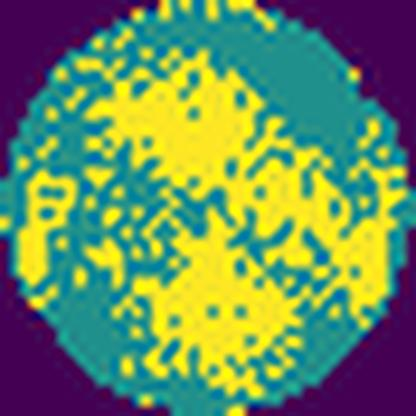Random: (10, 49, 405, 392)
